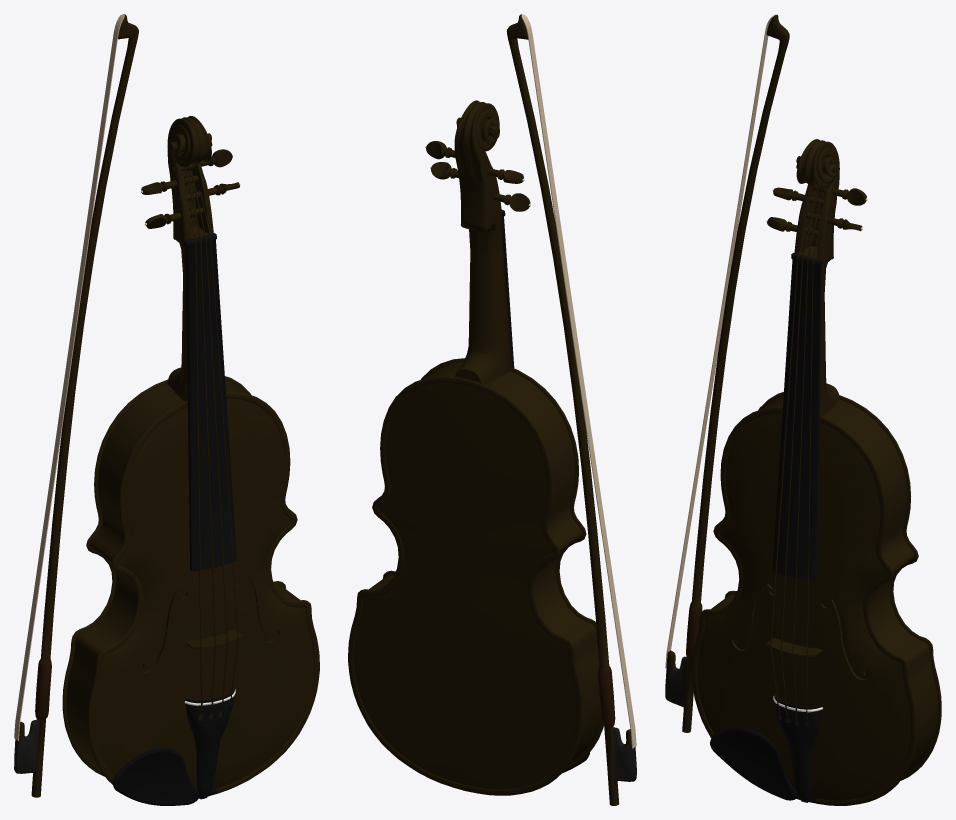
3 renders of one model, left to right at view 1: azimuth 30°, elevation 25°; view 2: azimuth 150°, elevation 25°; view 3: azimuth 330°, elevation 25°, orthographic. The views are drawn at different scales.
Parts seen in each view (by area): view 1: Acc_Mus_004_collapse; view 2: Acc_Mus_004_collapse; view 3: Acc_Mus_004_collapse.
Part boxes in pixels (left/top/right/bottom): Acc_Mus_004_collapse: left=14, top=14, right=319, bottom=805; Acc_Mus_004_collapse: left=348, top=14, right=636, bottom=805; Acc_Mus_004_collapse: left=665, top=14, right=941, bottom=805.
Bounding box in the file's own units: 423 × 1121 × 117.
